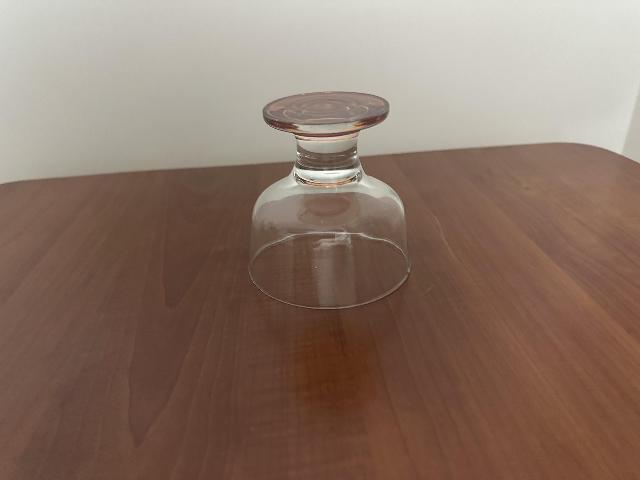Cam: (237, 89, 417, 308)
